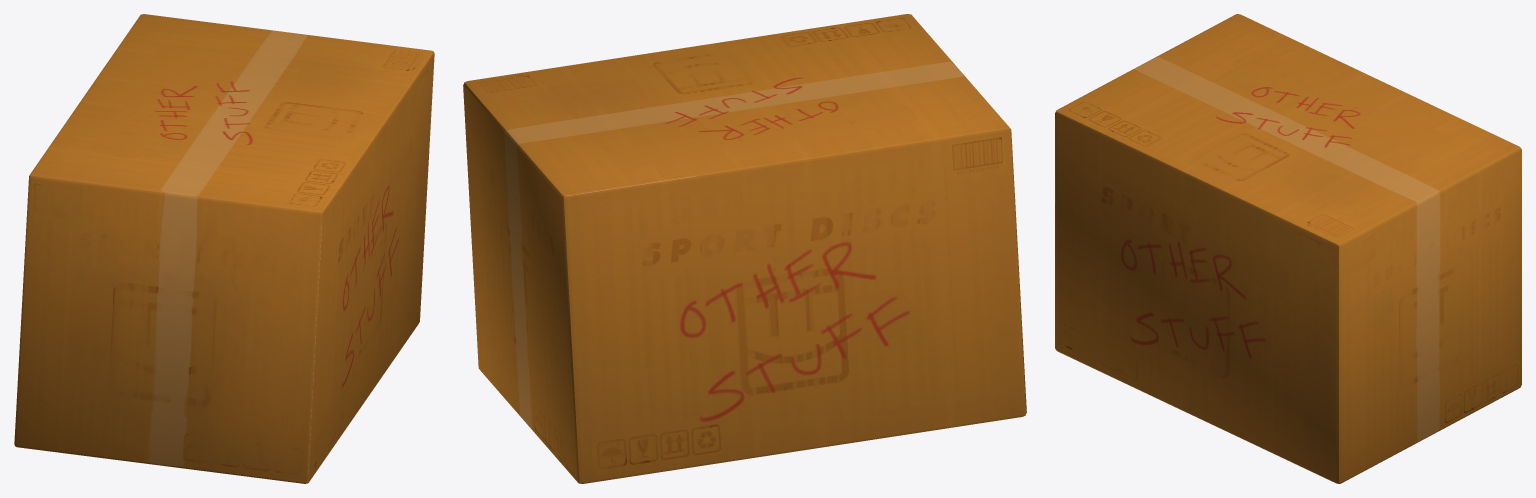
The model's file is other box.glb.
3 views of the same model, side by side, from view 1: azimuth 30°, elevation 25°; view 2: azimuth 150°, elevation 25°; view 3: azimuth 270°, elevation 25° (orthographic). The views are drawn at different scales.
Visible parts, largest first — view 1: [Cardboard_MovingBox]; view 2: [Cardboard_MovingBox]; view 3: [Cardboard_MovingBox].
Boxes of the visible parts, bbox=[...] form: [Cardboard_MovingBox]: bbox=[14, 14, 434, 483]; [Cardboard_MovingBox]: bbox=[463, 14, 1026, 483]; [Cardboard_MovingBox]: bbox=[1055, 14, 1521, 483].
Bounding box in the file's own units: 3.05 × 1.83 × 2.83.
Materials: 2 (2 with a texture image).
